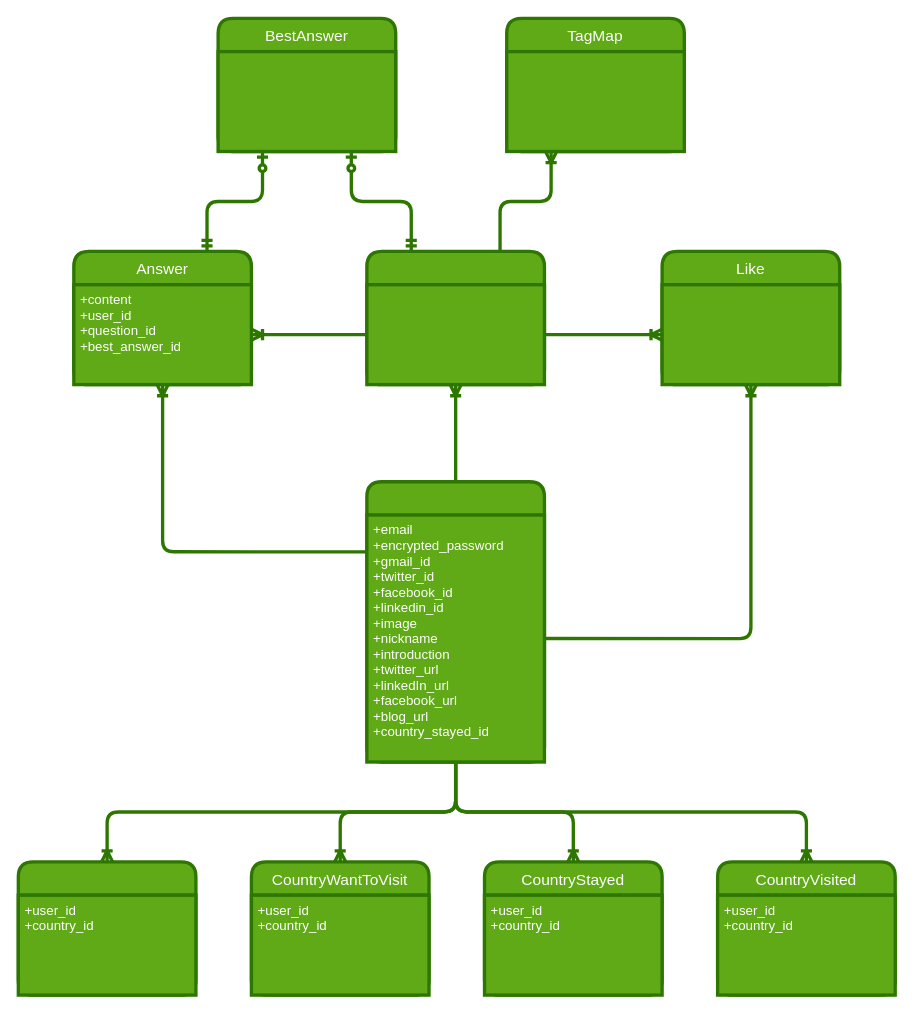
This 914x1013 diagram has some shape labels left out. The box of each missing label's shape, as (x1, y1, x2, y2) in pixels:
+question_id +answer_id: (216, 49, 397, 153)
+question_id +tag_id: (504, 49, 685, 153)
+title +content +user_id: (365, 282, 546, 386)
+user_id +question_id: (660, 282, 841, 386)
CountryWantToStay: (16, 860, 197, 996)
Question: (365, 249, 546, 386)
User: (365, 480, 546, 763)
